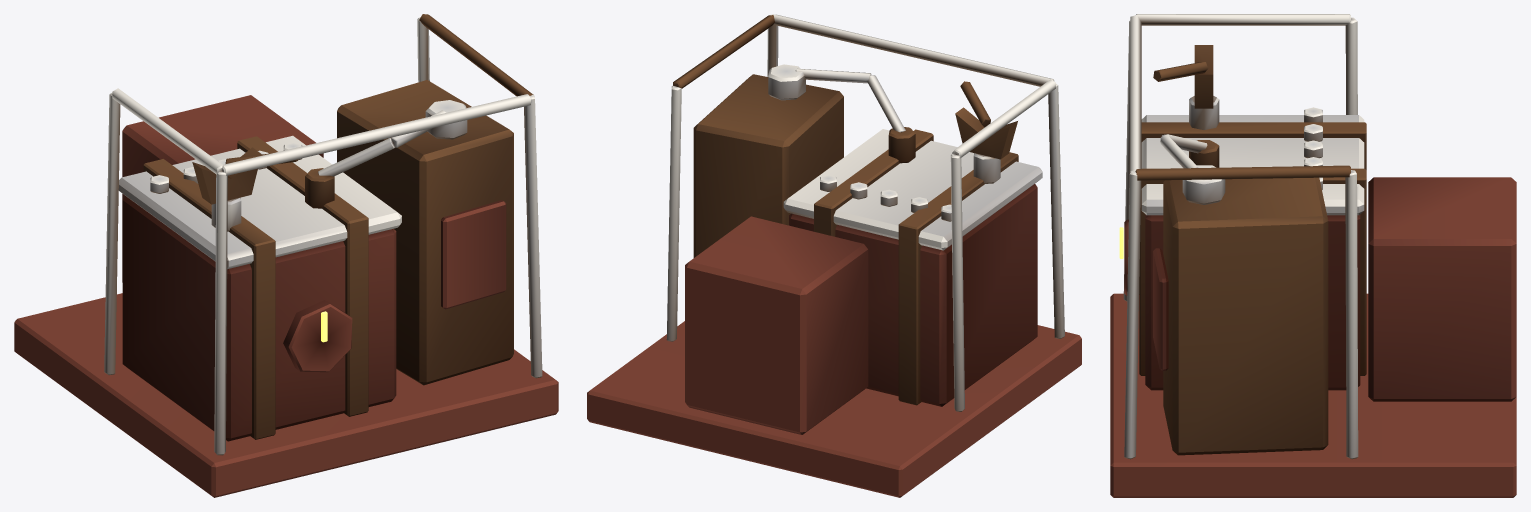
File: R4X_Battery_LOD1.fbx
3 views of the same model, side by side, from view 1: azimuth 30°, elevation 25°; view 2: azimuth 150°, elevation 25°; view 3: azimuth 270°, elevation 25° (orthographic). The views are drawn at different scales.
Parts seen in each view (by area): view 1: R4X_Battery_LOD1; view 2: R4X_Battery_LOD1; view 3: R4X_Battery_LOD1.
Part boxes in pixels (left/top/right/bottom): R4X_Battery_LOD1: left=14, top=14, right=558, bottom=497; R4X_Battery_LOD1: left=587, top=14, right=1081, bottom=497; R4X_Battery_LOD1: left=1110, top=14, right=1516, bottom=497.
Size of the model in its own units: 0.52 by 0.4576 by 0.52.
